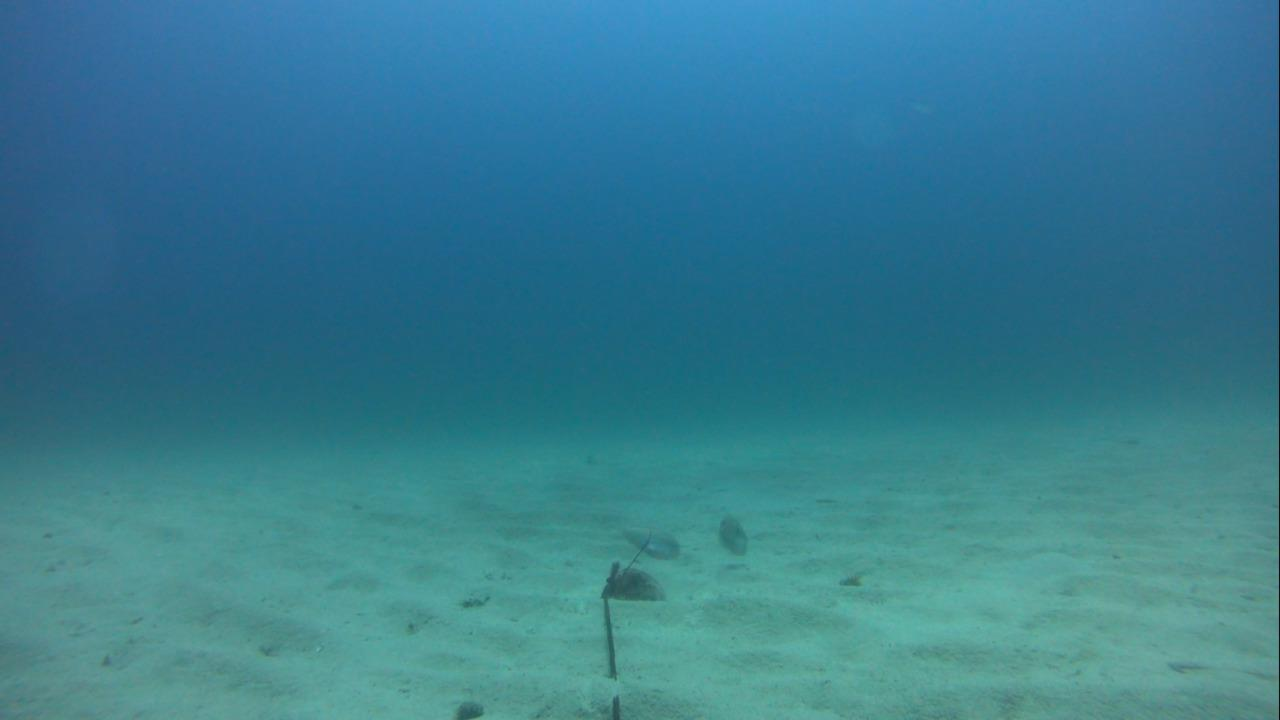raor: (607, 519, 685, 562), (711, 508, 754, 562)
